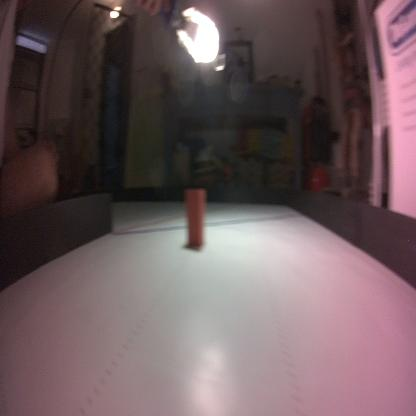red: (186, 186, 206, 248)
